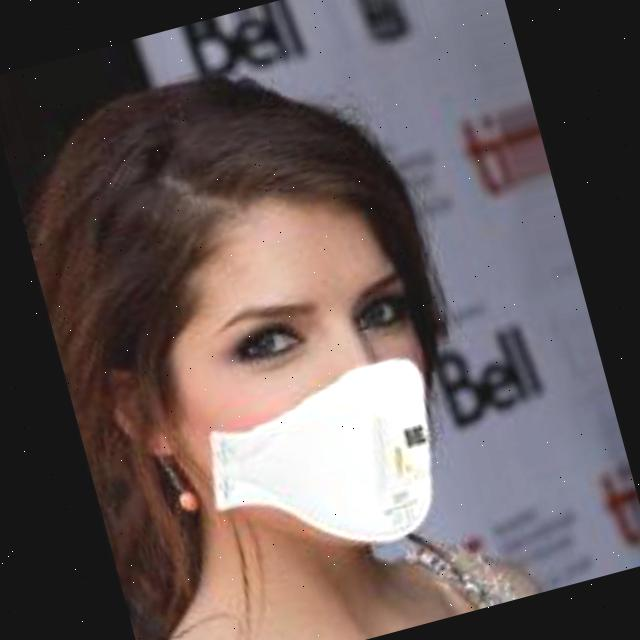suspicion: (81, 115, 501, 640)
